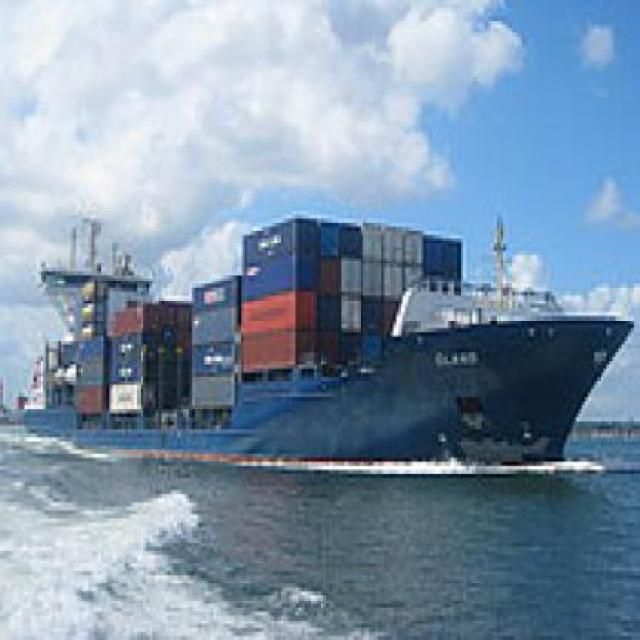container: (16, 196, 638, 491)
